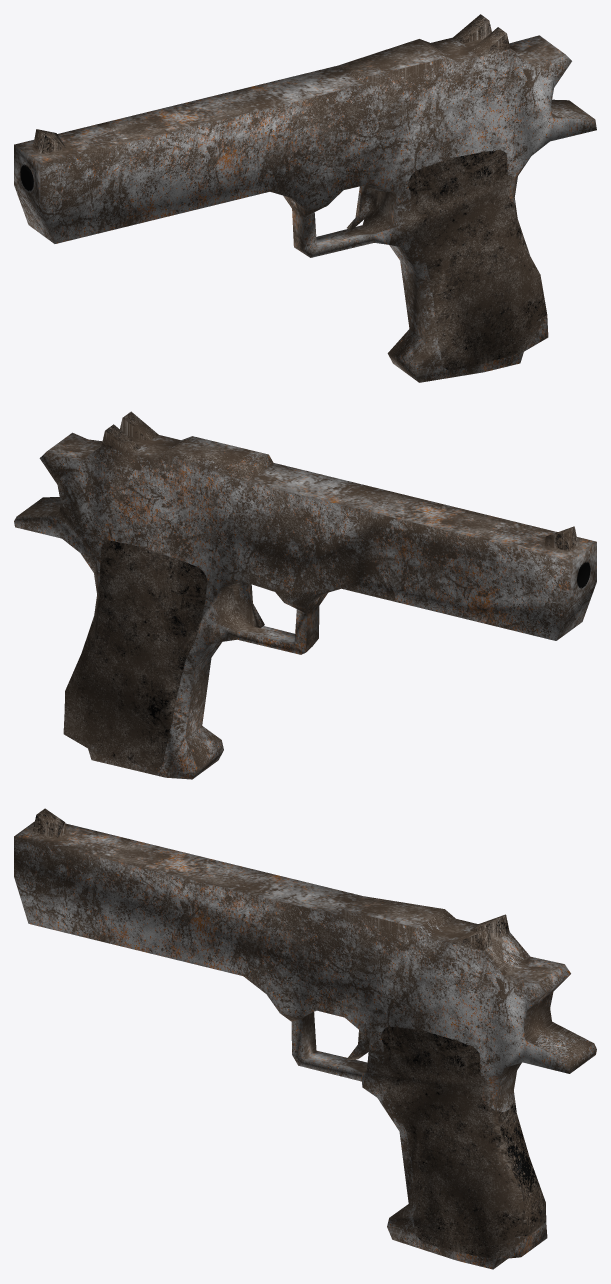
Rendered from Pistola.obj.
3 renders of one model, top to bottom at view 1: azimuth 30°, elevation 25°; view 2: azimuth 150°, elevation 25°; view 3: azimuth 330°, elevation 25°, orthographic.
Visible parts, largest first — view 1: Pistola; view 2: Pistola; view 3: Pistola.
Part boxes in pixels (left/top/right/bottom): Pistola: left=14, top=14, right=596, bottom=382; Pistola: left=14, top=411, right=596, bottom=779; Pistola: left=14, top=808, right=596, bottom=1269.
Bounding box in the file's own units: 1.71 × 0.9808 × 0.1394.
Materials: 1 (1 with a texture image).
